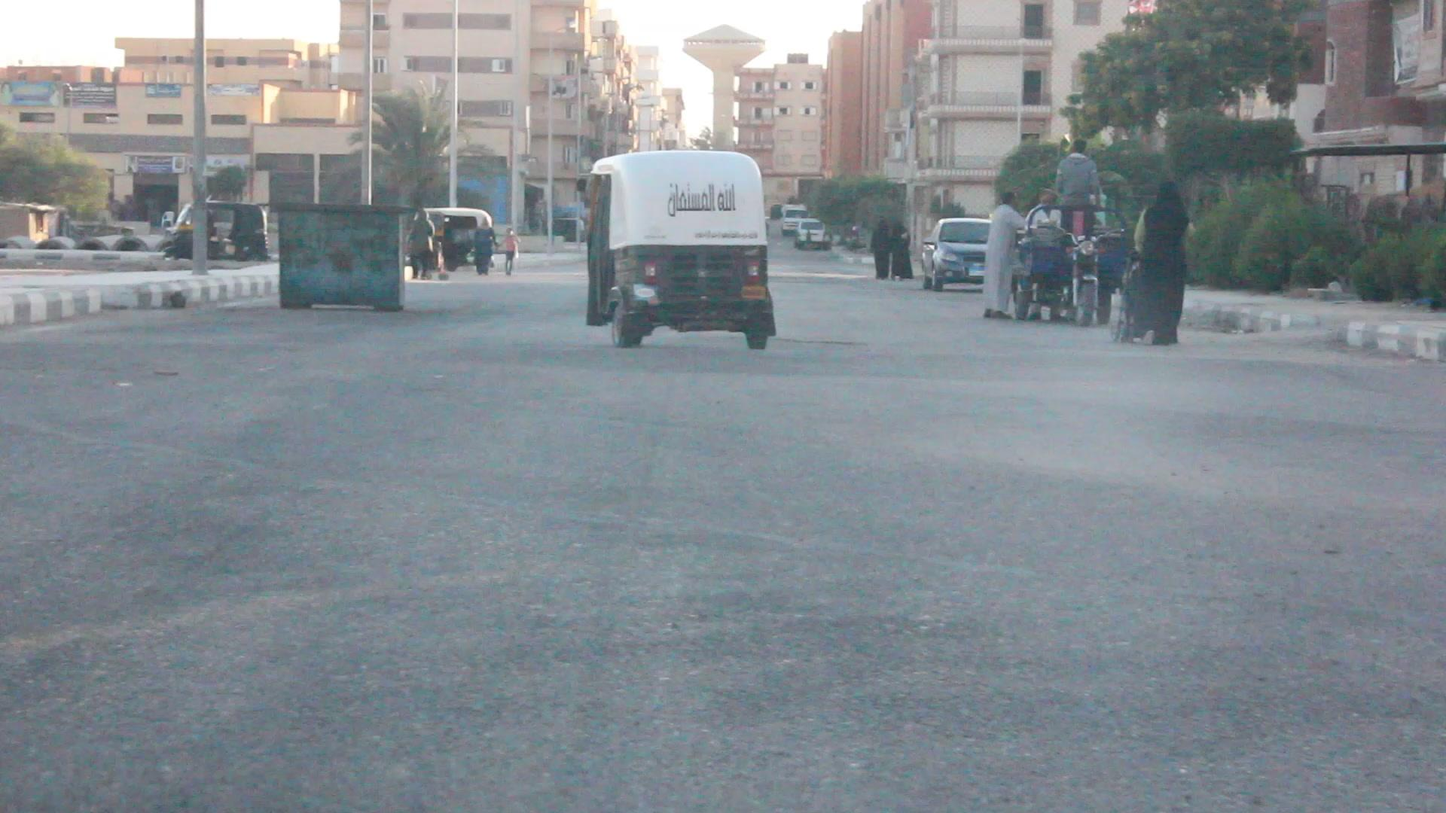Bump: (38, 343, 1446, 416)
